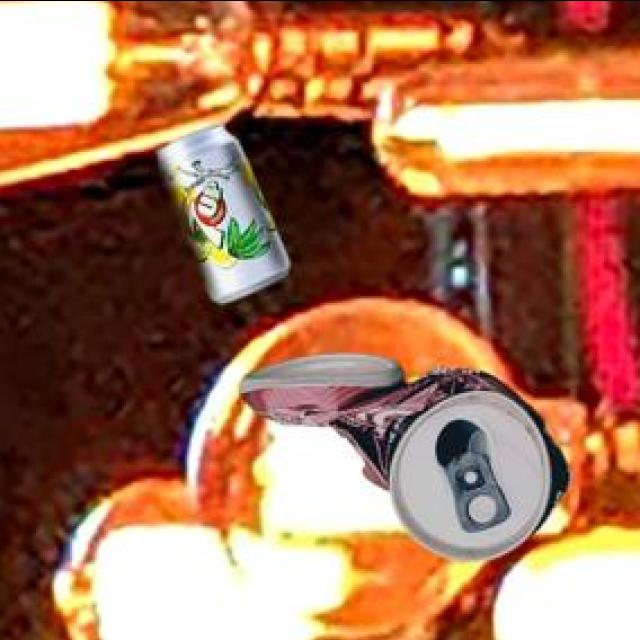logam: (245, 348, 576, 558), (163, 121, 292, 299)
